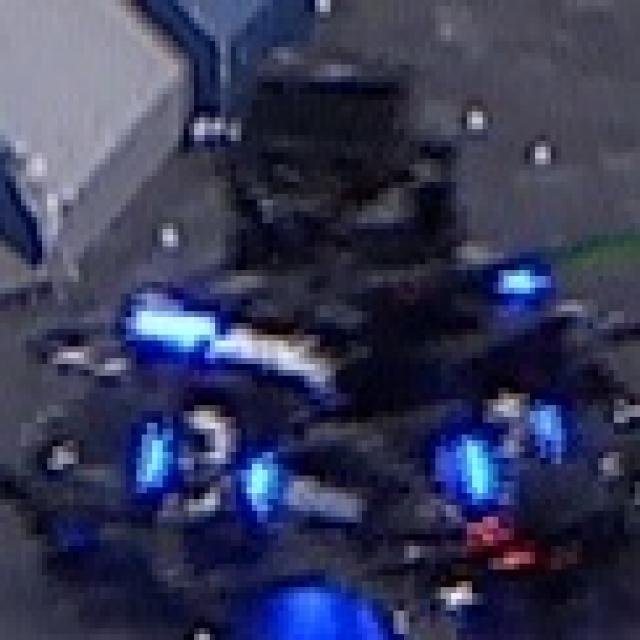B3: (131, 393, 273, 517), (456, 387, 566, 505)
